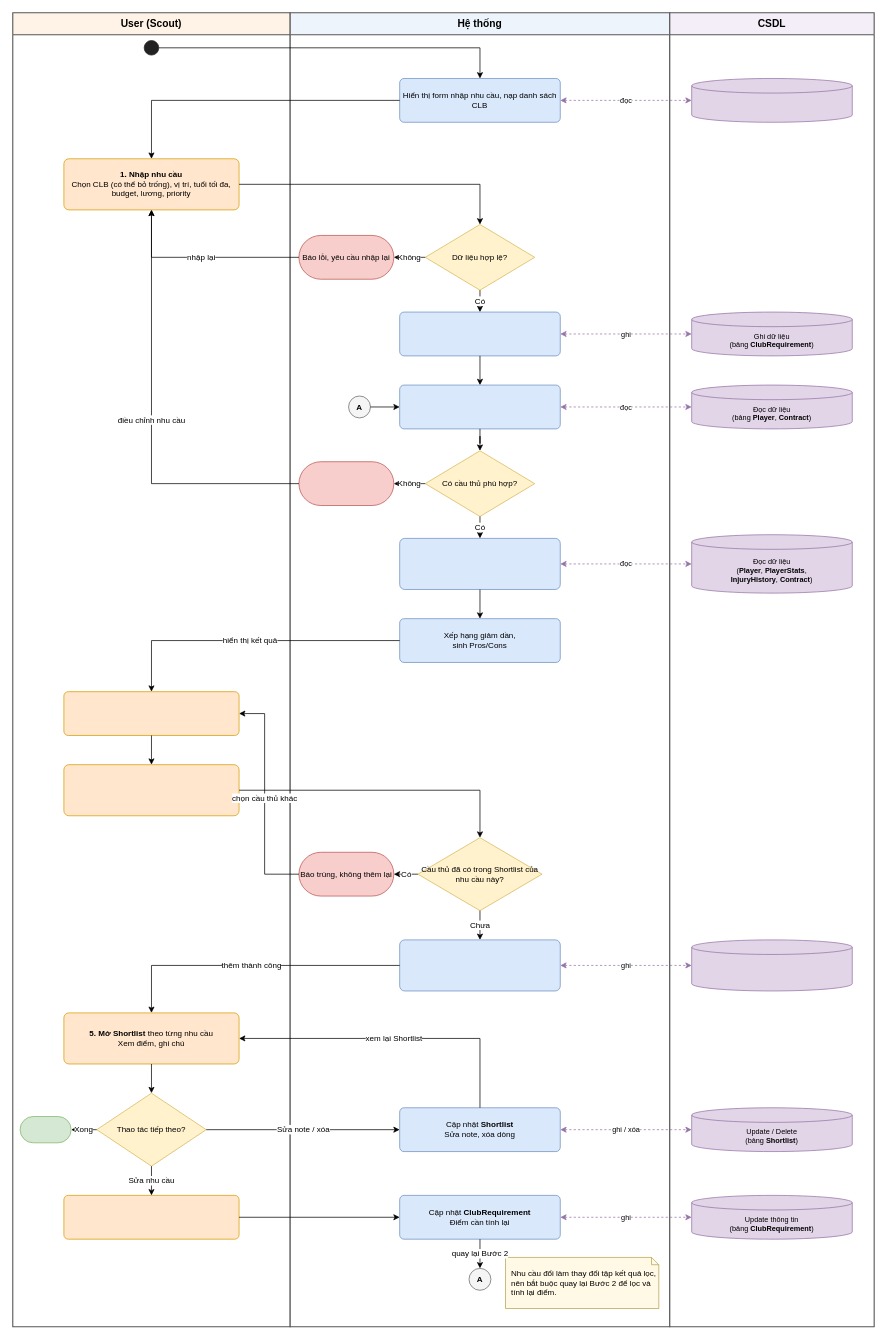
This 888x1340 diagram has some shape labels left out. The shapes that lost their labels are listed below. From the top down, each one's centre as x and y in pixels, then its label:
At (x=771, y=100): "Đọc danh sách CLB (bảng Club )".
At (x=479, y=333): "Lưu nhu cầu Tạo dòng ClubRequirement".
At (x=479, y=406): "2. Lọc cầu thủ Vị trí, tuổi, giá trị, lương".
At (x=346, y=483): "Thông báo không có kết quả, gợi ý nới điều kiện".
At (x=479, y=563): "3. Tính Match Score Financial 40% + Squad 40% + Risk & Future 20%".
At (x=151, y=713): "Xem xếp hạng Điểm + Pros/Cons".
At (x=151, y=790): "4. Thêm vào Shortlist Chọn cầu thủ quan tâm, ghi chú".
At (x=479, y=965): "Tạo dòng Shortlist (user_id, player_id, requirement_id, note, created_at)".
At (x=771, y=965): "Insert dòng mới (bảng Shortlist )".
At (x=45, y=1129): "Kết thúc".
At (x=151, y=1217): "Sửa nhu cầu Ví dụ: tăng budget".
